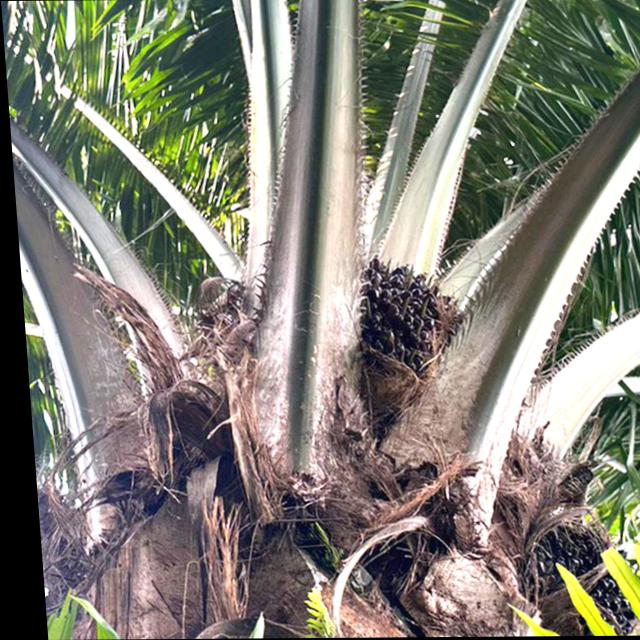unripe: (314, 250, 469, 396)
